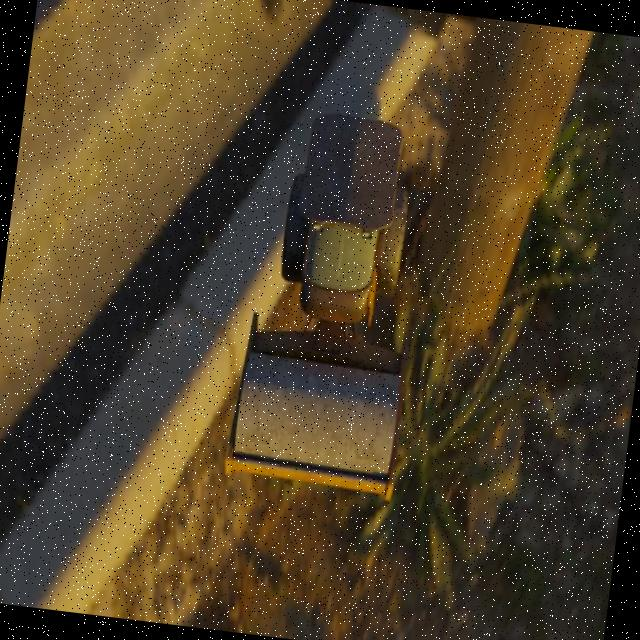Roller: (222, 103, 438, 500)
